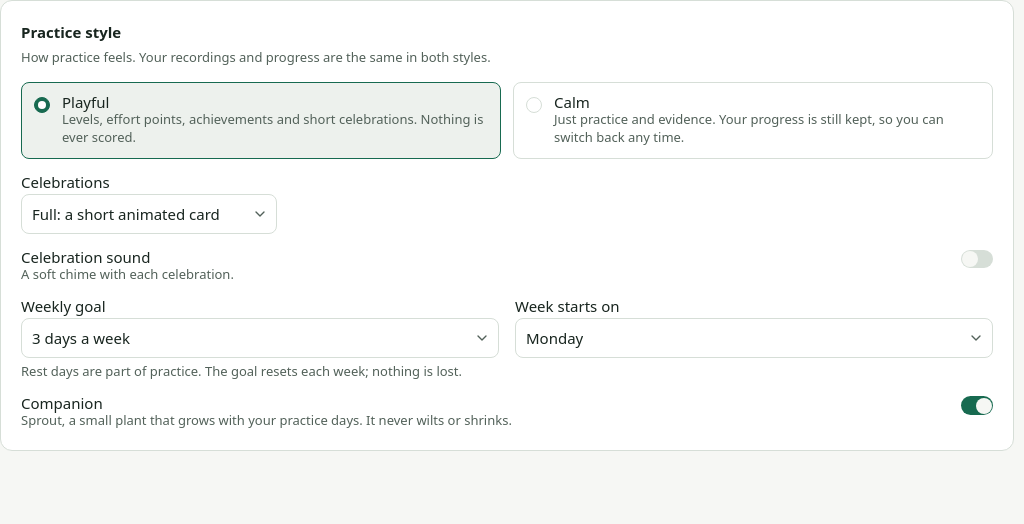
Test: saves the style and disables celebrations in calm style
Expected: the dropdown named "Celebrations" is enabled, 21,194 -> 277,234
Expected: the radio button named "Playful" next to "Playful" is checked, 34,97 -> 50,113
Click the radio button named "Calm" next to "Calm" at [534, 105], box 526,97 -> 542,113
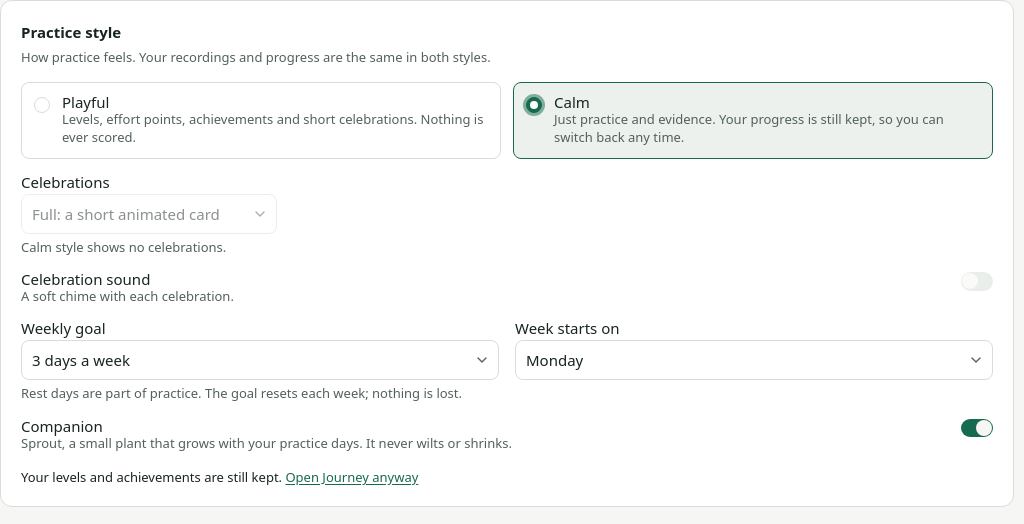
Now the dropdown named "Celebrations" is disabled, box 21,194 -> 277,234
Now the text "Calm style shows no celebrations." is shown, box 21,238 -> 226,256
